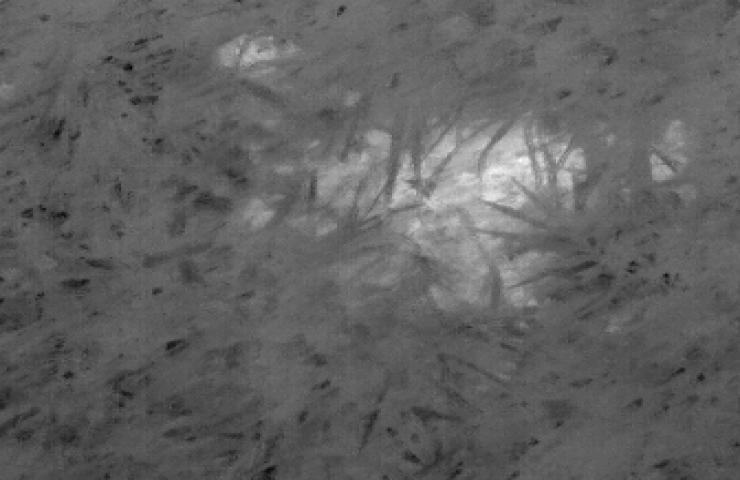landmines: (303, 105, 604, 315)
